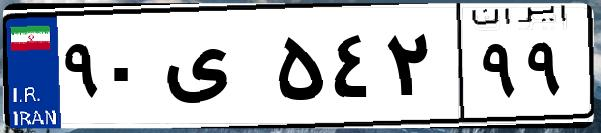0: (110, 28, 158, 98)
2: (385, 28, 445, 110)
4: (330, 28, 385, 110)
5: (270, 28, 330, 110)
9: (57, 26, 110, 100), (475, 38, 525, 113), (525, 38, 570, 115)
ی: (158, 20, 270, 120)
